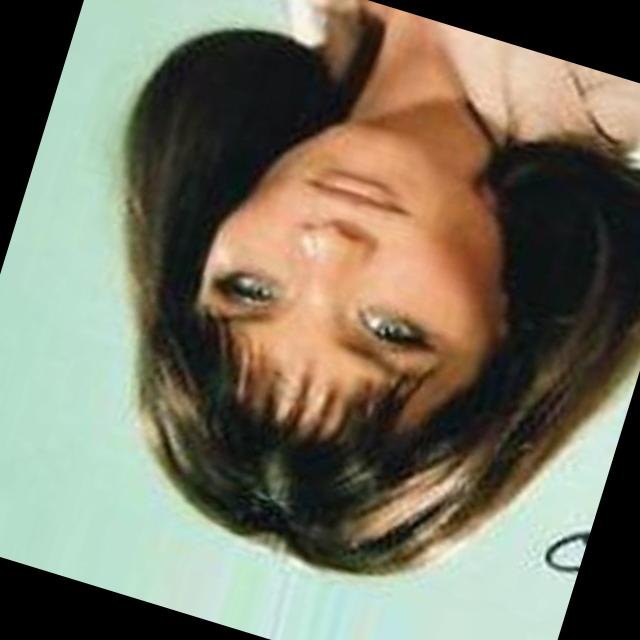bareface: (136, 100, 554, 560)
